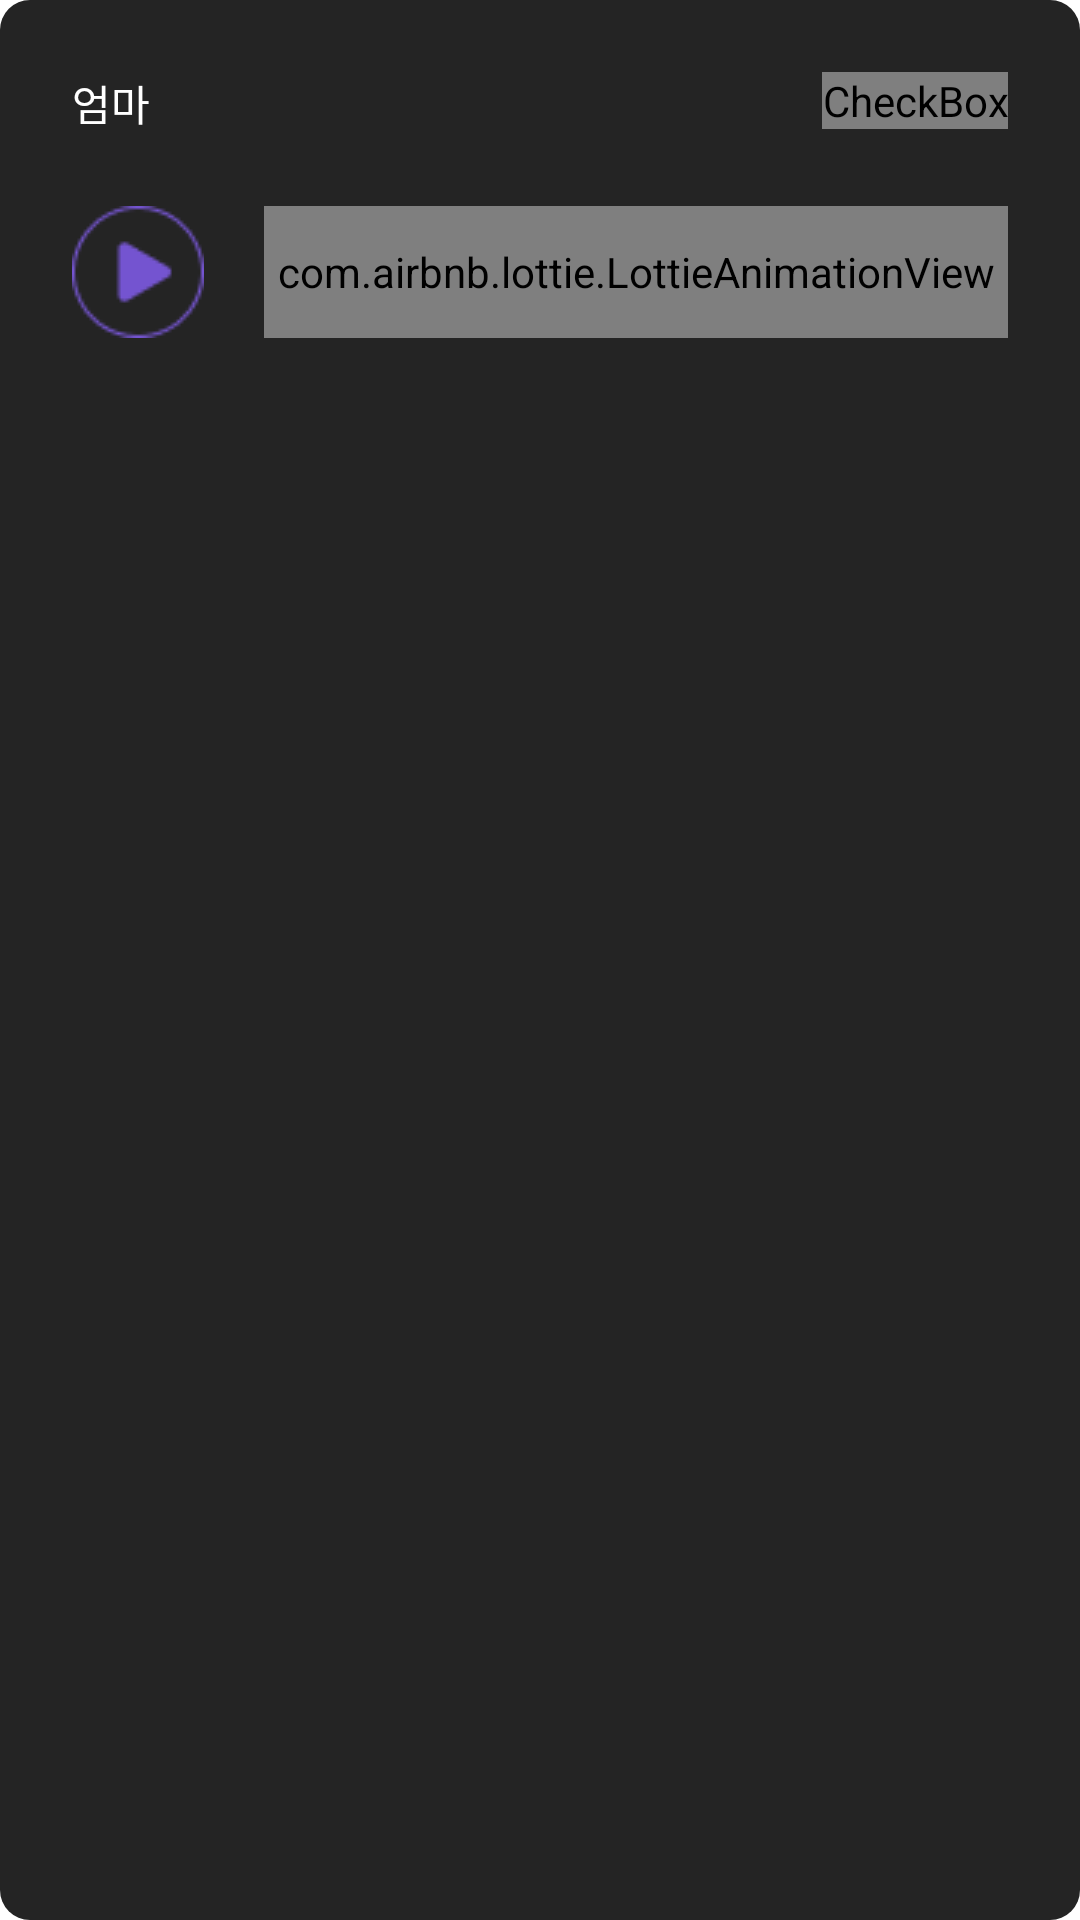

Icon bounding boxes for this 1080×1920 phone screenshot, format (x1, y1, x2, y2):
play: (72, 206, 204, 338)
